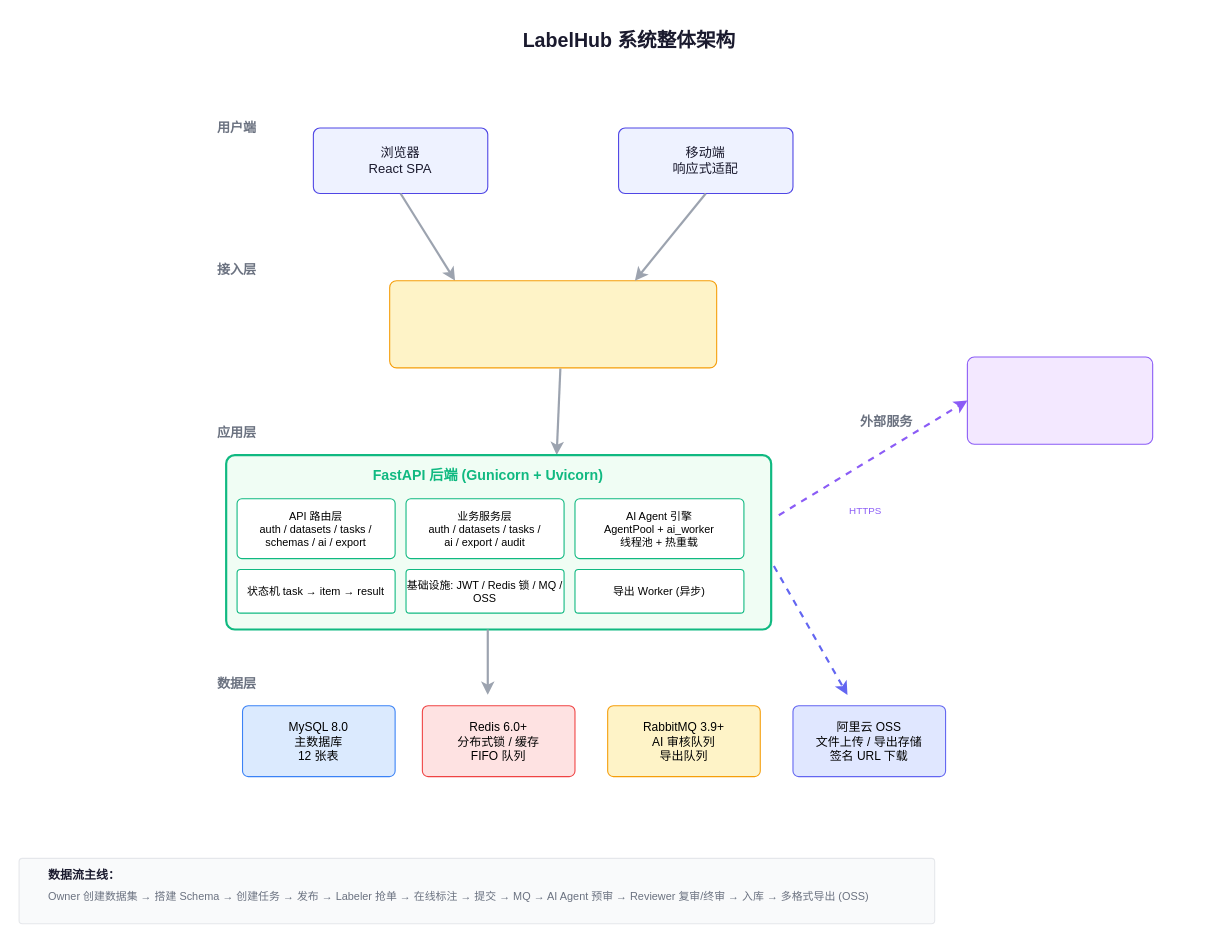
This 1232x943 diagram has some shape labels left out. Each missing label, with the centre of its shape:
LLM API OpenAI 兼容接口 豆包 / GPT-4o Function Calling: the point at 1059,400
Nginx SSL 终端 + 反向代理 / → SPA 静态文件 /api/ → FastAPI:8000: the point at 553,324
